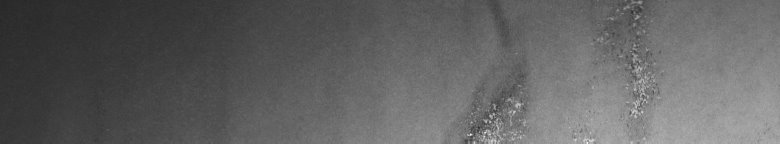hc: (461, 4, 663, 136)
